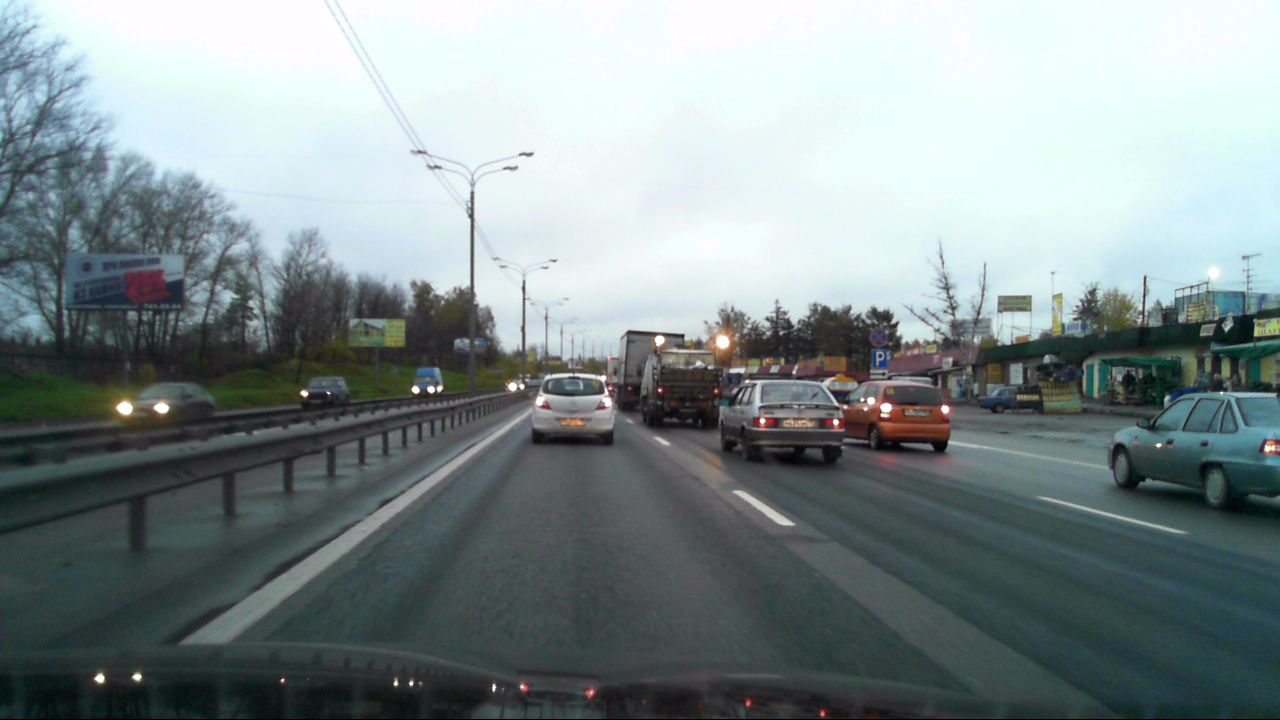No Parking: (868, 329, 888, 347)
